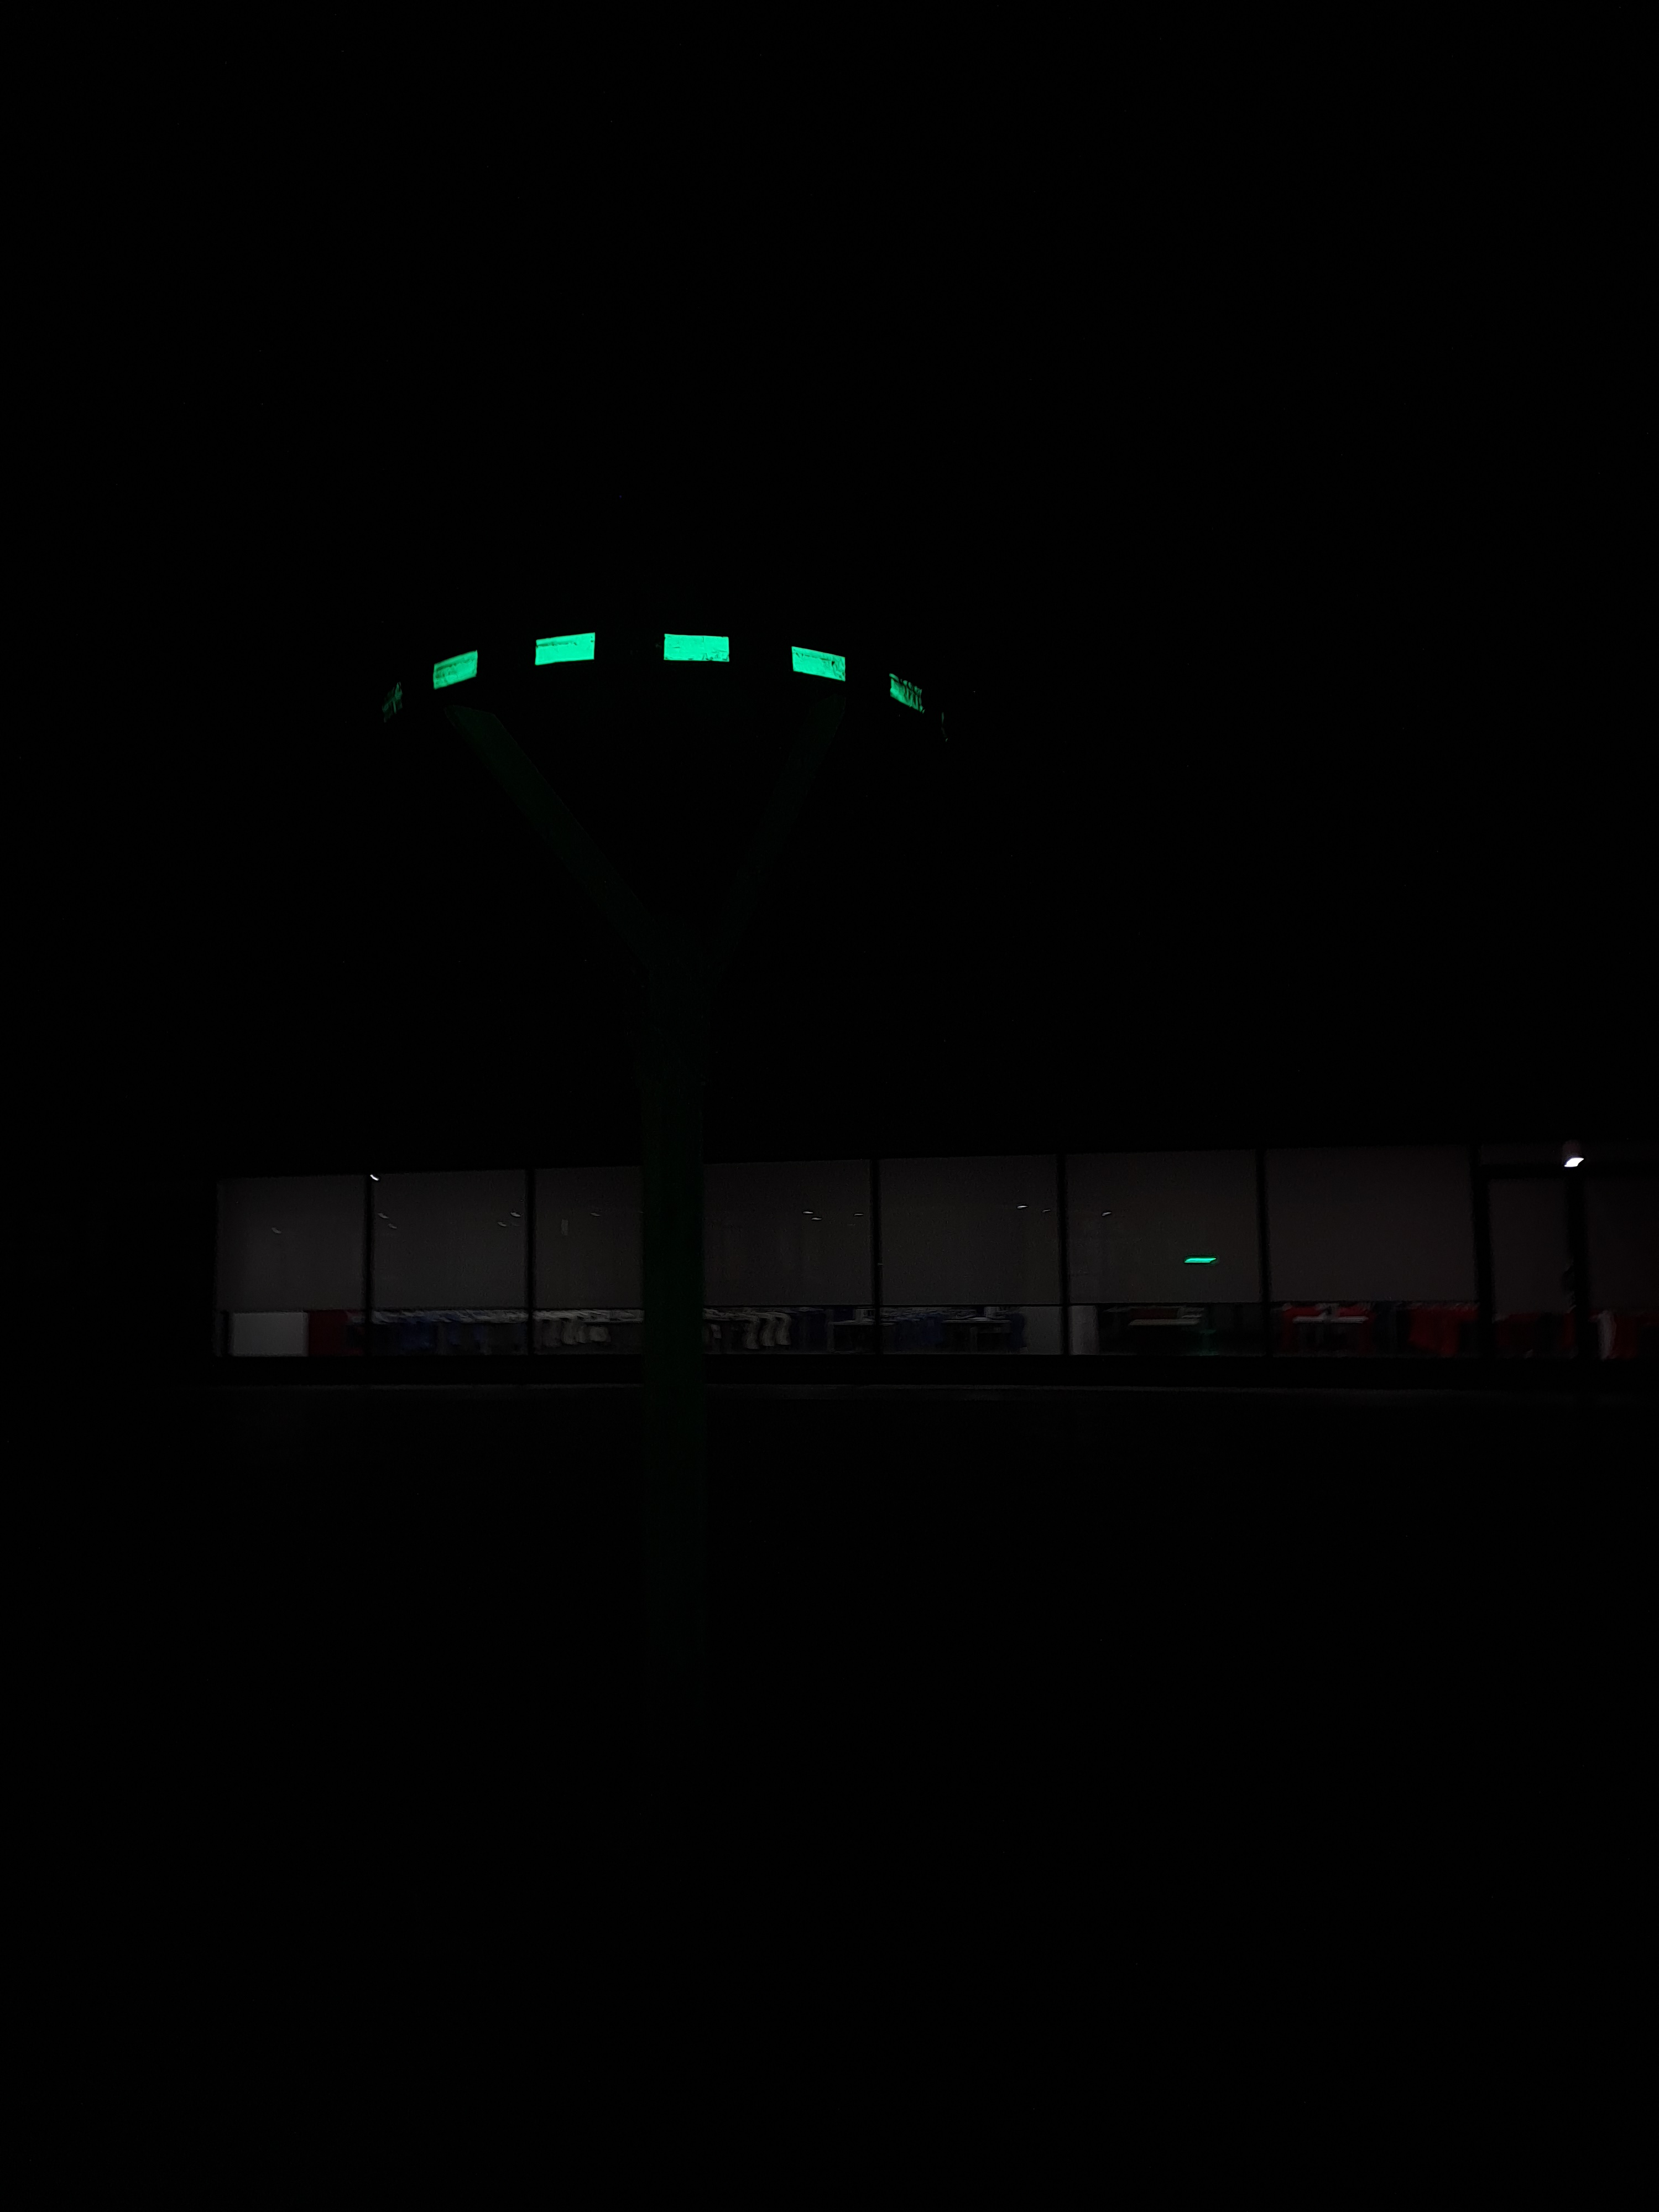hoop: (422, 627, 932, 721)
